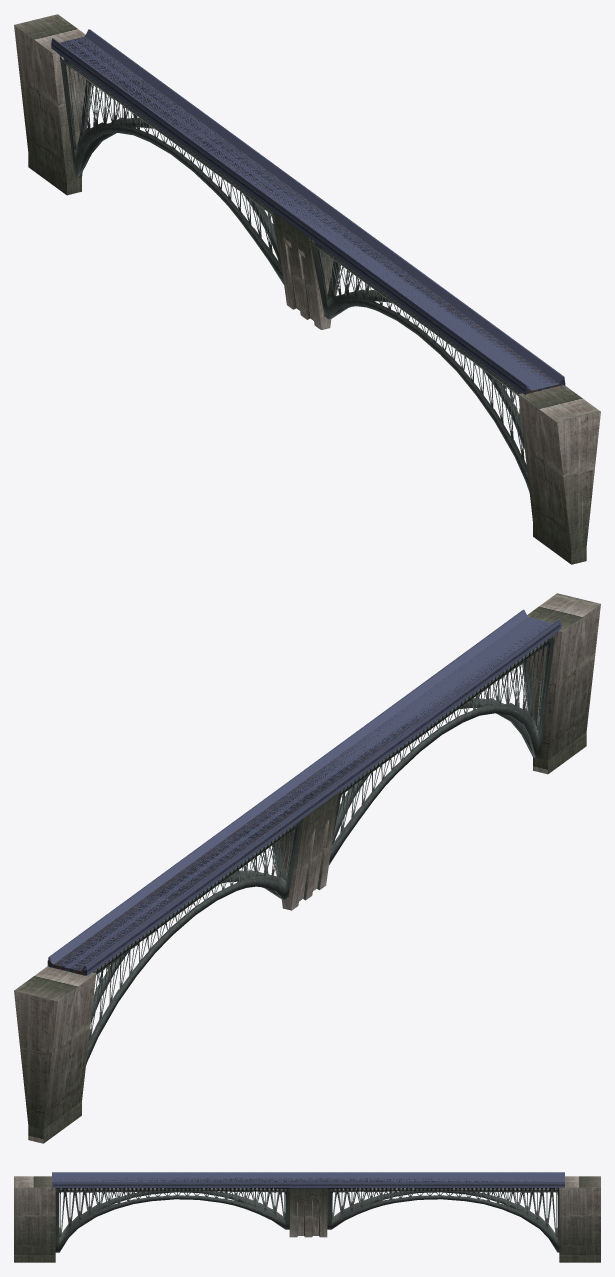
File: Bridge.fbx
3 renders of one model, top to bottom at view 1: azimuth 30°, elevation 25°; view 2: azimuth 150°, elevation 25°; view 3: azimuth 270°, elevation 25°, orthographic. The views are drawn at different scales.
Parts seen in each view (by area): view 1: RoadbedCollMEsh, BridgeSupport.001, Roadbed.001, Cube.003, Cube.002, Cube; view 2: RoadbedCollMEsh, BridgeSupport.001, Roadbed.001, Cube.002, Cube.003, Cube; view 3: BridgeSupport.001, RoadbedCollMEsh, Cube.003, Cube.002, Roadbed.001, Cube.
Boxes of the visible parts, box(x1,y1,x2,y2) form: RoadbedCollMEsh: box(51, 29, 565, 395); BridgeSupport.001: box(60, 55, 529, 492); Roadbed.001: box(51, 29, 563, 393); Cube.003: box(518, 385, 600, 564); Cube.002: box(14, 14, 91, 195); Cube: box(274, 212, 333, 329); RoadbedCollMEsh: box(47, 609, 561, 975); BridgeSupport.001: box(86, 636, 554, 1065); Roadbed.001: box(47, 611, 560, 975); Cube.002: box(14, 966, 96, 1143); Cube.003: box(527, 593, 600, 774); Cube: box(279, 792, 338, 910); BridgeSupport.001: box(55, 1188, 559, 1252); RoadbedCollMEsh: box(52, 1172, 564, 1187); Cube.003: box(14, 1176, 55, 1262); Cube.002: box(559, 1176, 600, 1262); Roadbed.001: box(53, 1172, 564, 1188); Cube: box(289, 1188, 327, 1237).
Bounding box in the file's own units: 132 × 446 × 2822.
